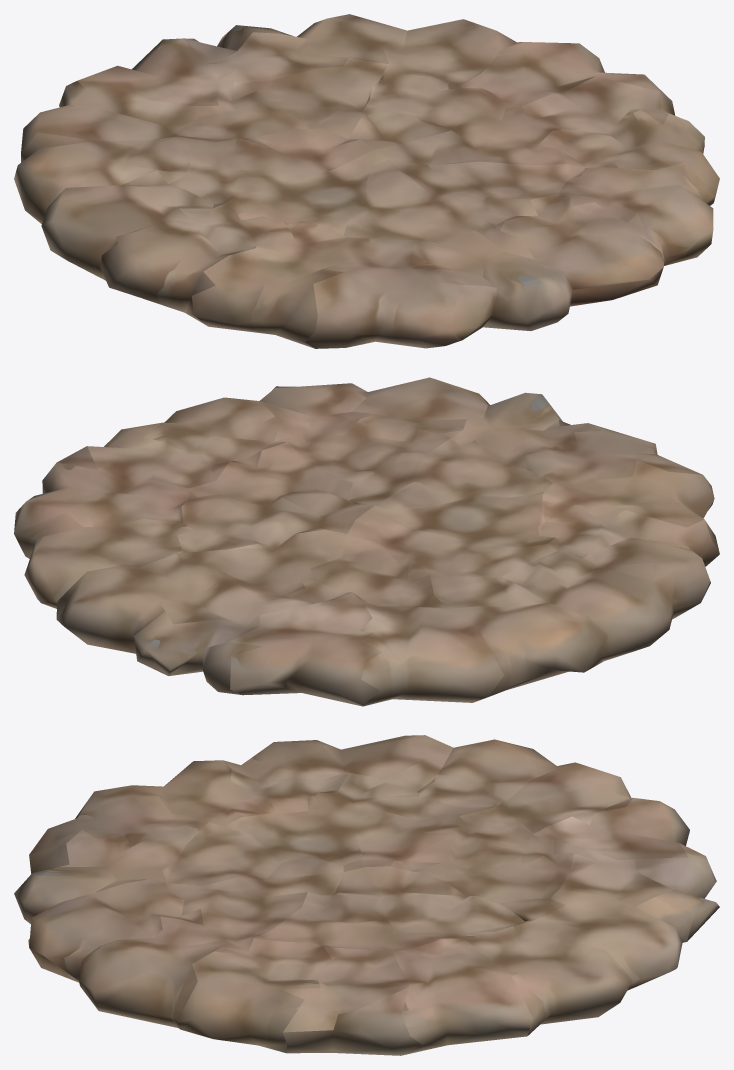
The model's file is StoneFooting.glb.
The picture shows the model from 3 angles, top to bottom: view 1: azimuth 30°, elevation 25°; view 2: azimuth 150°, elevation 25°; view 3: azimuth 270°, elevation 25°; orthographic projection. The views are drawn at different scales.
Parts seen in each view (by area): view 1: StoneFooting; view 2: StoneFooting; view 3: StoneFooting.
Part boxes in pixels (box(x1,y1,x2,y2)): StoneFooting: box(14, 14, 719, 348); StoneFooting: box(14, 377, 719, 706); StoneFooting: box(14, 735, 719, 1055).
Size of the model in its own units: 0.9726 by 0.0859 by 0.9979.
1 material, 1 textured.
